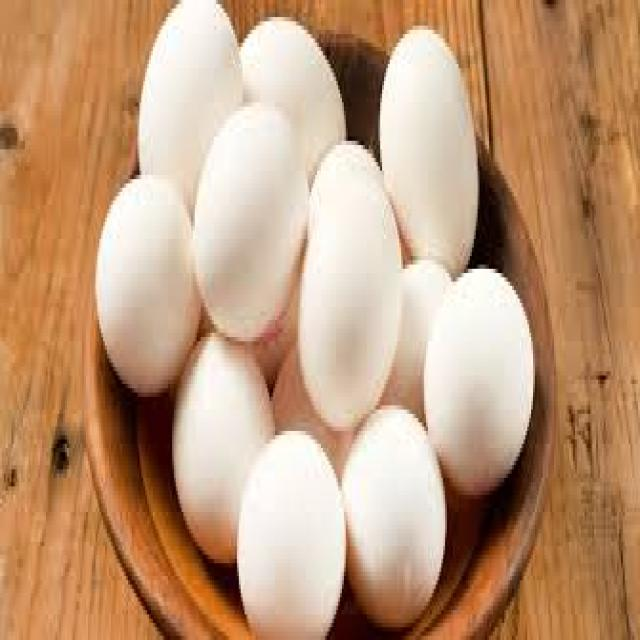White Egg: (188, 92, 311, 338), (417, 258, 542, 486), (305, 130, 400, 411), (376, 8, 482, 259), (134, 0, 248, 223), (90, 188, 202, 412), (339, 413, 451, 628), (171, 329, 273, 565), (240, 433, 354, 640)
